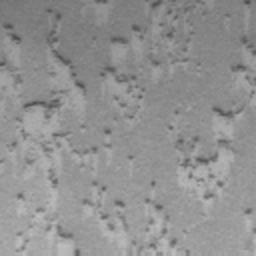Oxide scale of temperature system: (10, 8, 113, 256), (165, 0, 256, 214), (100, 0, 207, 125), (82, 180, 192, 256), (0, 23, 23, 96), (15, 193, 26, 212), (244, 207, 253, 224), (127, 155, 133, 174)
